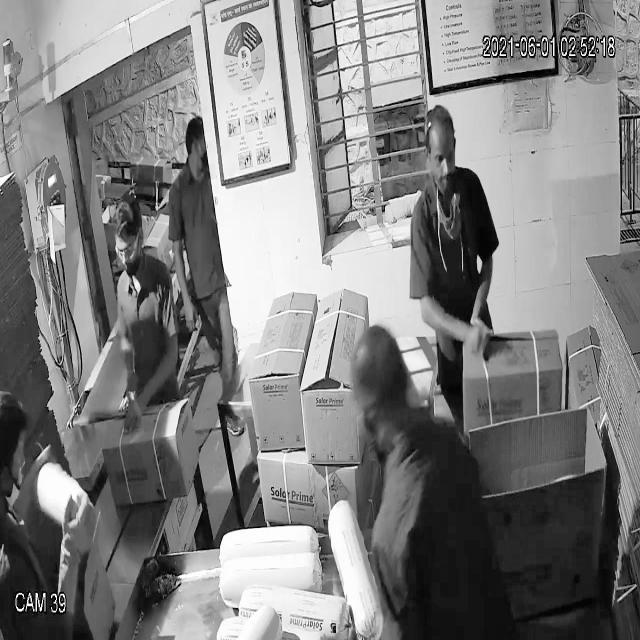glasses: (106, 230, 150, 268)
no-glass: (421, 142, 459, 174)
